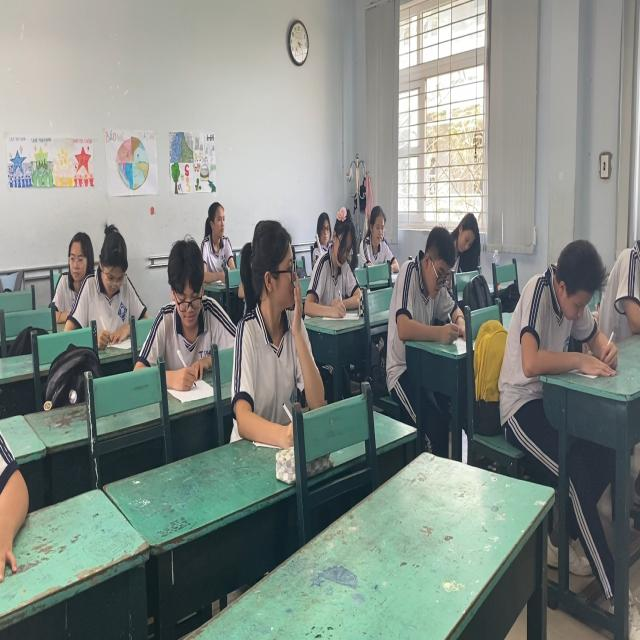cheating: (235, 212, 313, 417)
not_cheating: (531, 235, 616, 388), (155, 226, 224, 384), (83, 218, 150, 338), (405, 225, 459, 348), (324, 209, 363, 311), (194, 192, 241, 276), (57, 222, 91, 296), (361, 203, 392, 269), (450, 212, 478, 266), (311, 209, 332, 256)
